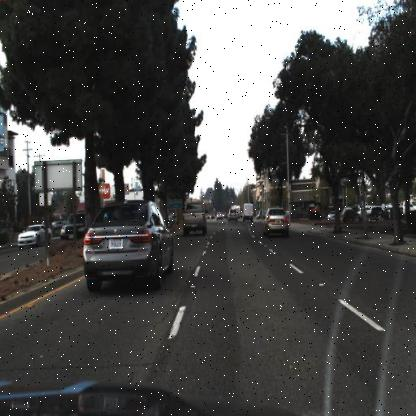car: (76, 195, 178, 297), (177, 193, 211, 239), (260, 202, 294, 243), (59, 209, 91, 242), (16, 223, 52, 247), (240, 199, 257, 226), (224, 205, 242, 226)
